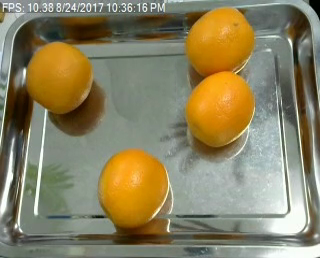Orange: (95, 148, 168, 229), (186, 70, 256, 148), (184, 7, 256, 79), (25, 41, 93, 113)
